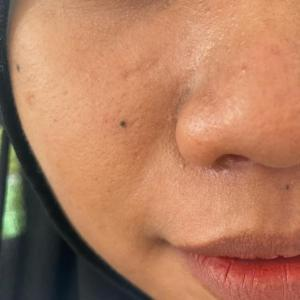Oily-Skin: (160, 0, 300, 95)
